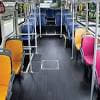seat: (80, 33, 97, 66)
